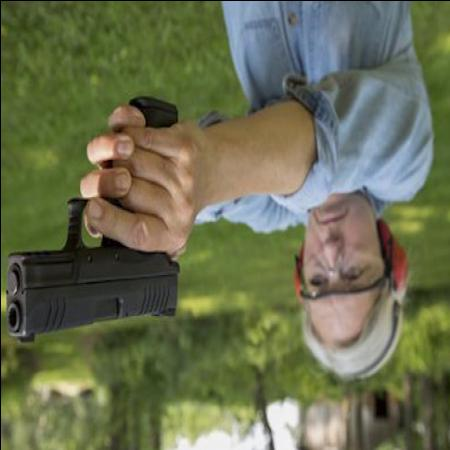Pistol: (4, 103, 184, 343)
